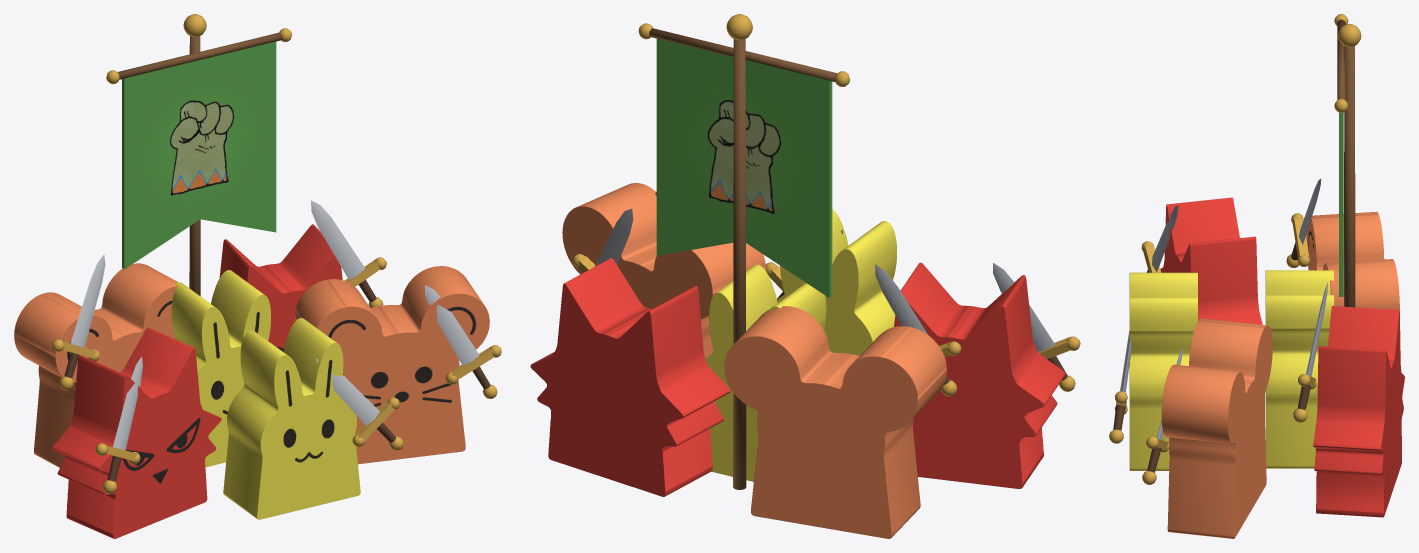
Rendered from sympathy.glb.
The picture shows the model from 3 angles, left to right: view 1: azimuth 30°, elevation 25°; view 2: azimuth 150°, elevation 25°; view 3: azimuth 270°, elevation 25°; orthographic projection. The views are drawn at different scales.
Parts seen in each view (by area): view 1: sympathy_banner, sympathy_fox_3, sympathy_mouse_4, sympathy_rabbit_5, sympathy_mouse_0, sympathy_rabbit_2, sympathy_fox_1, sympathy_sword_4, sympathy_sword_1, sympathy_sword_5, sympathy_sword_0, sympathy_sword_3; view 2: sympathy_banner, sympathy_mouse_0, sympathy_fox_1, sympathy_fox_3, sympathy_mouse_4, sympathy_rabbit_5, sympathy_rabbit_2, sympathy_sword_3, sympathy_sword_0, sympathy_sword_1; view 3: sympathy_mouse_4, sympathy_fox_1, sympathy_rabbit_2, sympathy_rabbit_5, sympathy_fox_3, sympathy_mouse_0, sympathy_banner, sympathy_sword_0, sympathy_sword_1, sympathy_sword_5, sympathy_sword_3, sympathy_sword_4.
Boxes of the visible parts, x1,y1,x2,y2 form: sympathy_banner: (106,14,291,295); sympathy_fox_3: (52,327,221,538); sympathy_mouse_4: (294,266,489,464); sympathy_rabbit_5: (223,318,360,519); sympathy_mouse_0: (14,263,177,467); sympathy_rabbit_2: (171,270,270,467); sympathy_fox_1: (219,224,342,351); sympathy_sword_4: (425,285,501,398); sympathy_sword_1: (311,200,386,307); sympathy_sword_5: (316,359,403,450); sympathy_sword_0: (52,254,105,390); sympathy_sword_3: (95,356,142,493); sympathy_banner: (638,14,849,489); sympathy_mouse_0: (724,306,946,538); sympathy_fox_1: (530,258,730,496); sympathy_fox_3: (894,262,1065,488); sympathy_mouse_4: (562,183,766,357); sympathy_rabbit_5: (777,209,896,355); sympathy_rabbit_2: (705,264,826,481); sympathy_sword_3: (993,263,1080,391); sympathy_sword_0: (875,264,961,396); sympathy_sword_1: (572,208,633,272); sympathy_mouse_4: (1161,318,1272,538); sympathy_fox_1: (1313,306,1404,517); sympathy_rabbit_2: (1265,270,1334,468); sympathy_rabbit_5: (1129,272,1197,470); sympathy_fox_3: (1160,197,1262,324); sympathy_mouse_0: (1306,211,1399,311); sympathy_banner: (1334,14,1361,307); sympathy_sword_0: (1286,179,1321,267); sympathy_sword_1: (1293,282,1327,422); sympathy_sword_5: (1109,330,1131,443); sympathy_sword_3: (1141,205,1178,272); sympathy_sword_4: (1142,347,1182,484).
Bounding box in the file's own units: 1.92 × 1.81 × 1.16.
12 materials, 4 textured.
